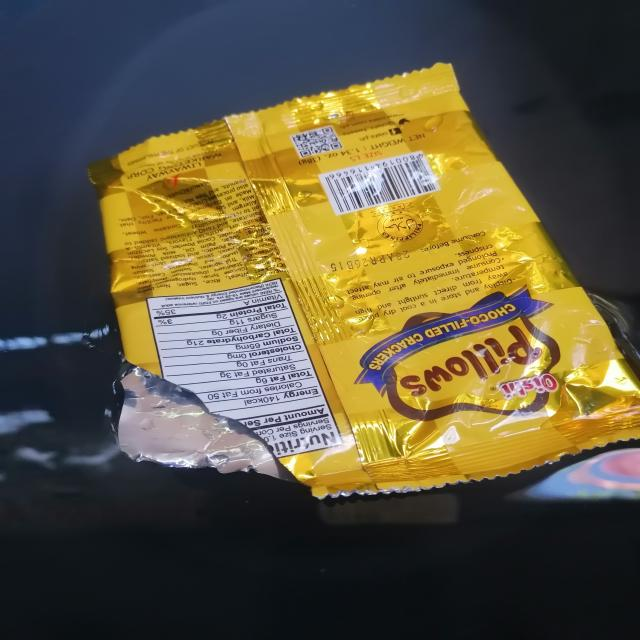Plastic Wrapper: (88, 64, 640, 499)
